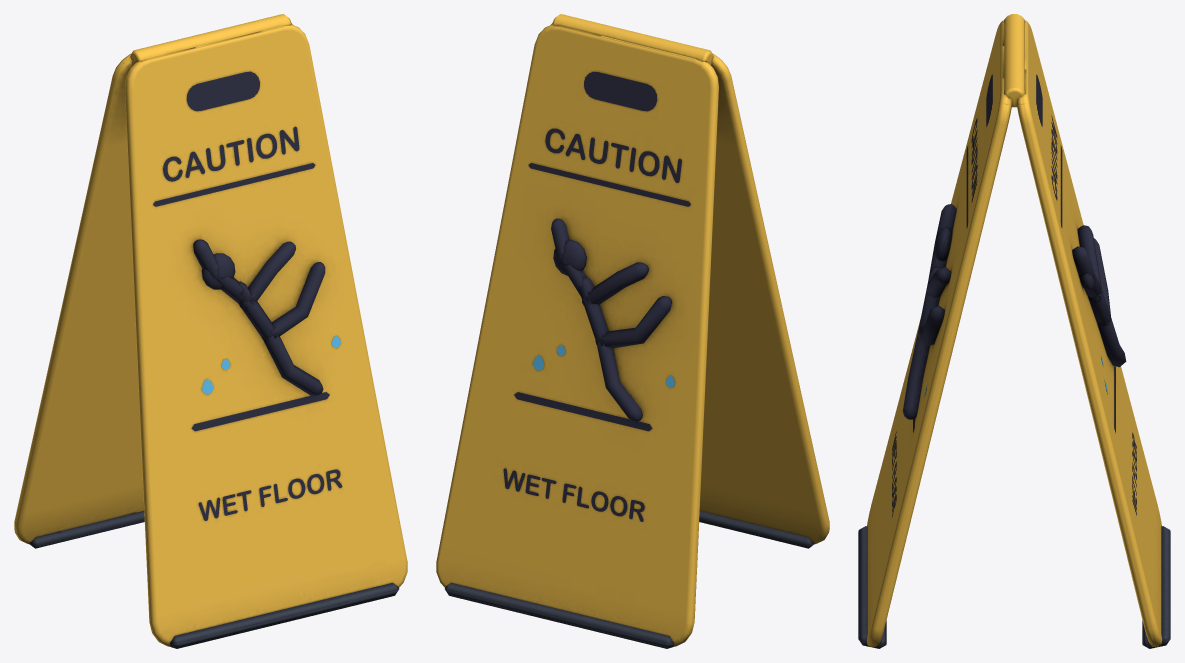
The model's file is wet_floor_sign.glb.
3 renders of one model, left to right at view 1: azimuth 30°, elevation 25°; view 2: azimuth 150°, elevation 25°; view 3: azimuth 270°, elevation 25°, orthographic.
Visible parts, largest first — view 1: wet_floor_sign; view 2: wet_floor_sign; view 3: wet_floor_sign.
Part boxes in pixels (x1,y1,x2,y2): wet_floor_sign: [14, 14, 407, 648]; wet_floor_sign: [436, 14, 829, 648]; wet_floor_sign: [858, 14, 1170, 648].
Size of the model in its own units: 0.3149 by 0.6317 by 0.3281.
4 materials, 4 textured.
